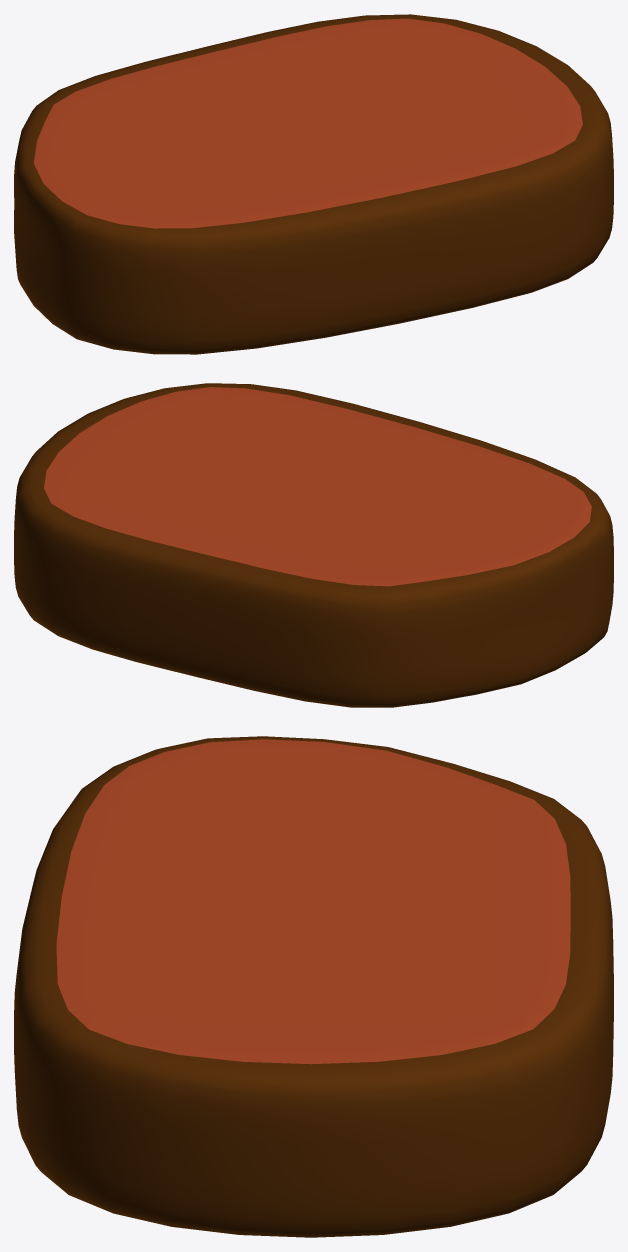
File: Meat01.fbx
3 renders of one model, top to bottom at view 1: azimuth 30°, elevation 25°; view 2: azimuth 150°, elevation 25°; view 3: azimuth 270°, elevation 25°, orthographic. The views are drawn at different scales.
Visible parts, largest first — view 1: Meat01; view 2: Meat01; view 3: Meat01.
Part boxes in pixels (left/top/right/bottom): Meat01: left=14, top=14, right=613, bottom=354; Meat01: left=14, top=383, right=613, bottom=707; Meat01: left=14, top=736, right=613, bottom=1237.
Bounding box in the file's own units: 1009 × 219 × 723.
